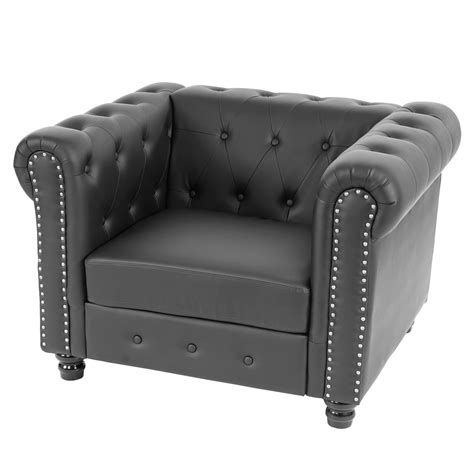cuero: (13, 80, 462, 417)
